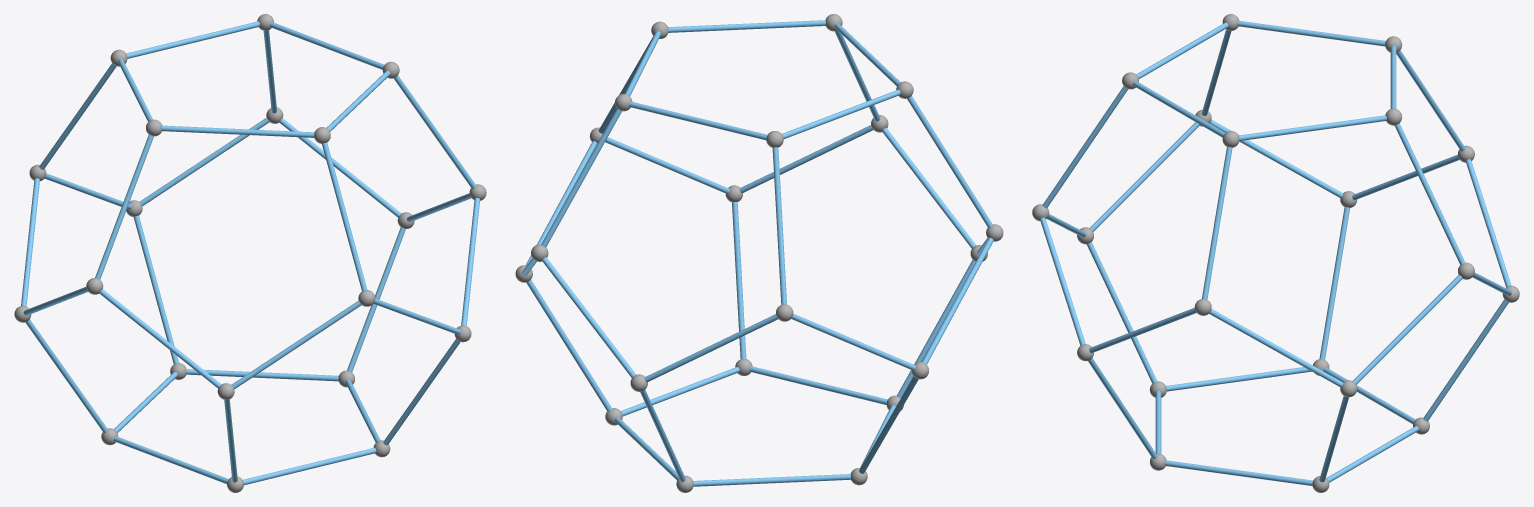
Rendered from dodecahedron.glb.
3 renders of one model, left to right at view 1: azimuth 30°, elevation 25°; view 2: azimuth 150°, elevation 25°; view 3: azimuth 270°, elevation 25°, orthographic. The views are drawn at different scales.
Bounding box in the file's own units: 8.15 × 6.98 × 8.56.
